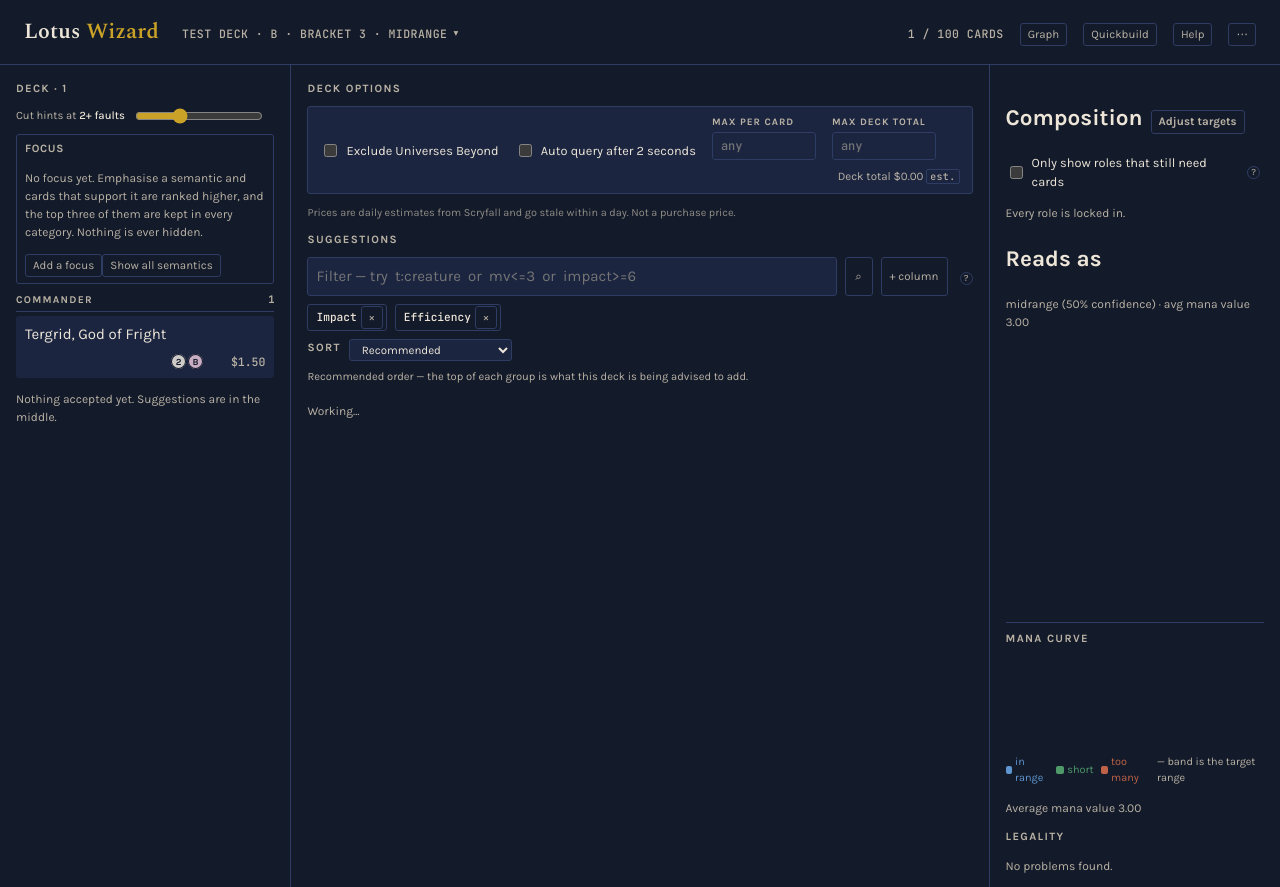
Scenario: the whole vocabulary, in categories › files a subtype under Types
Expected: the button "Tergrid, God of Fright" is shown, [25,323,266,345]
Step 1. Click the button "Show all semantics" → (162, 266), box [102,254,221,277]
(page scrolled)
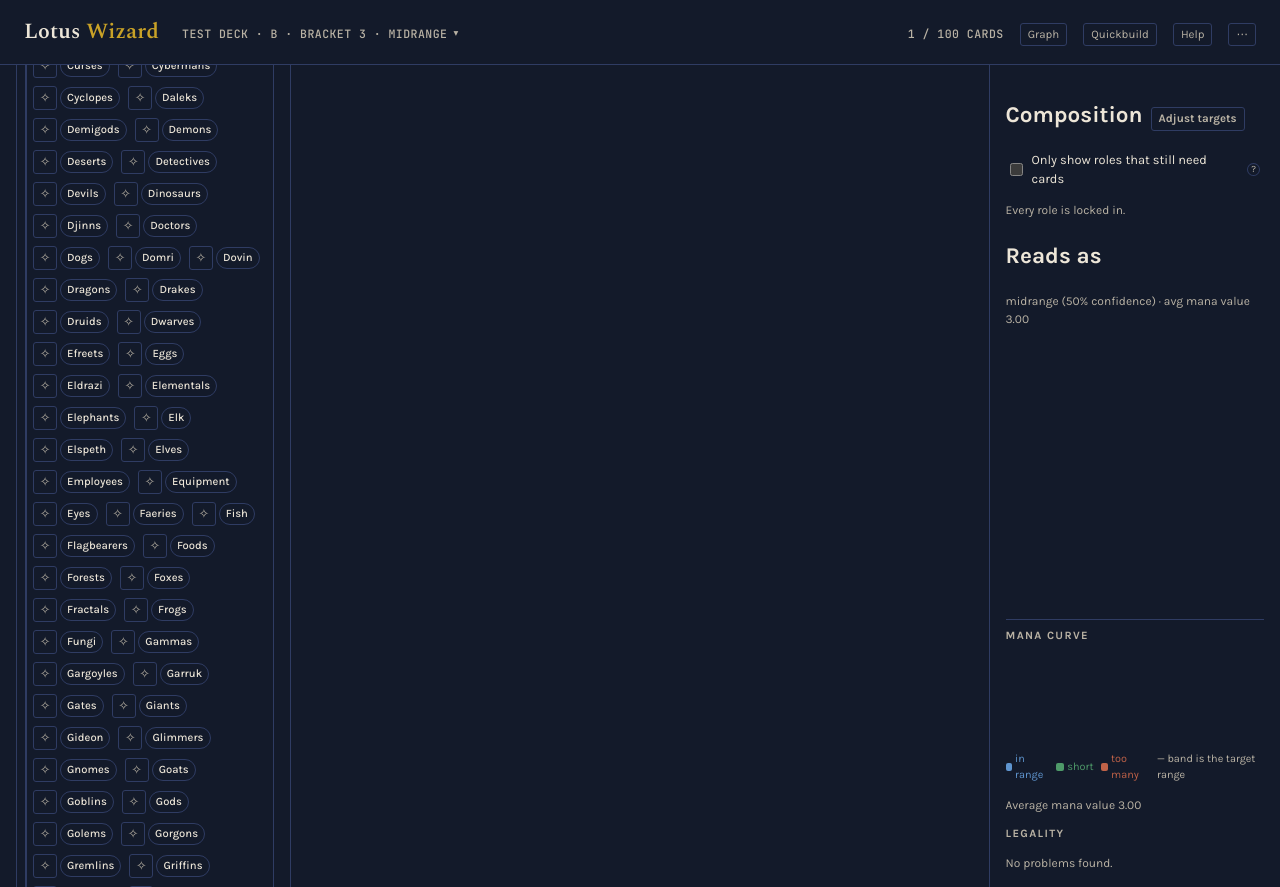
Expected: the button named "Emphasise Elves" is shown, [121,438,145,462]
